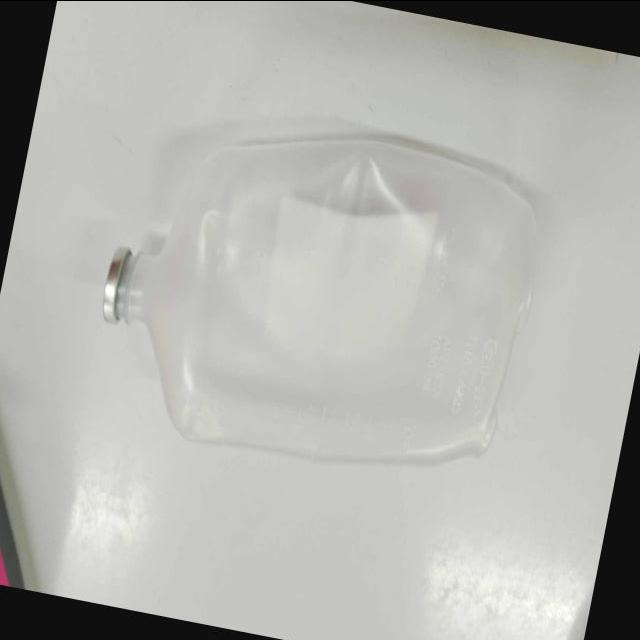General: (1, 2, 638, 639)
Infectious: (101, 128, 537, 467)
